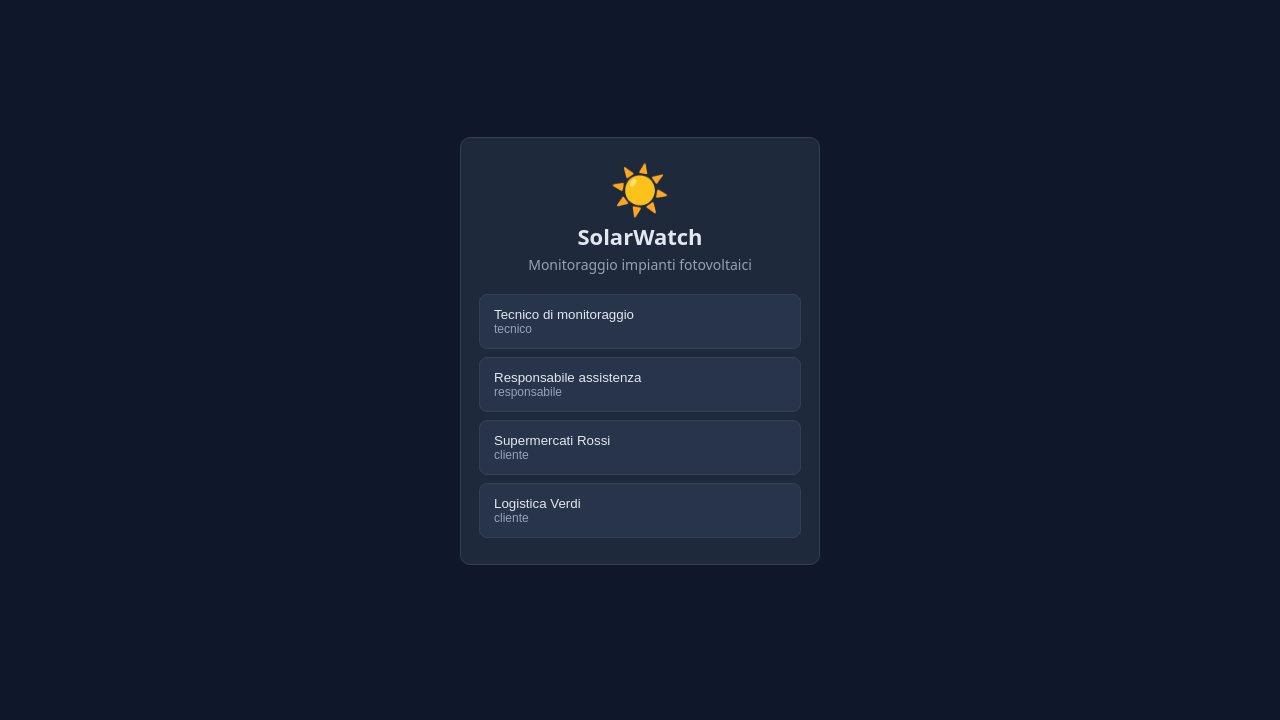
Test: SolarWatch - navigazione tecnico › apre lo storico e seleziona un impianto
Click the button with test id "login-tecnico".
click(564, 315)  # box [479,294,801,349]
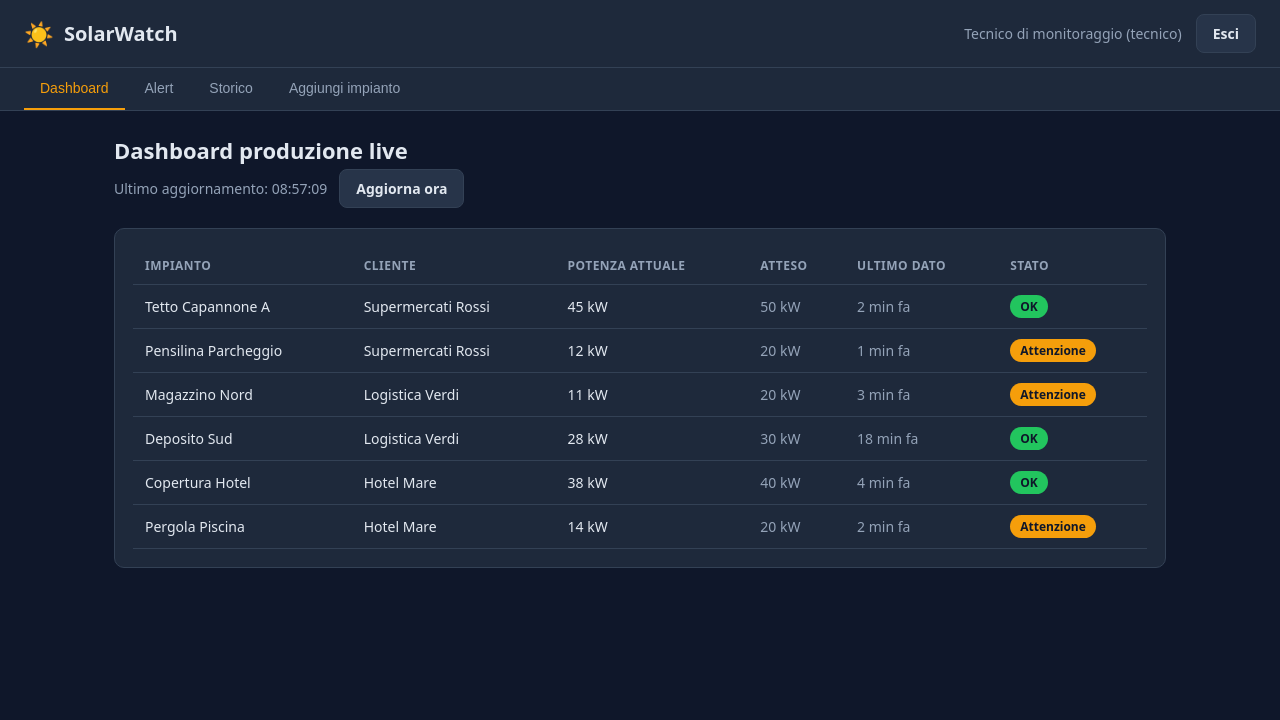
Click the button with test id "nav-storico".
click(231, 89)  # box [193,68,269,110]
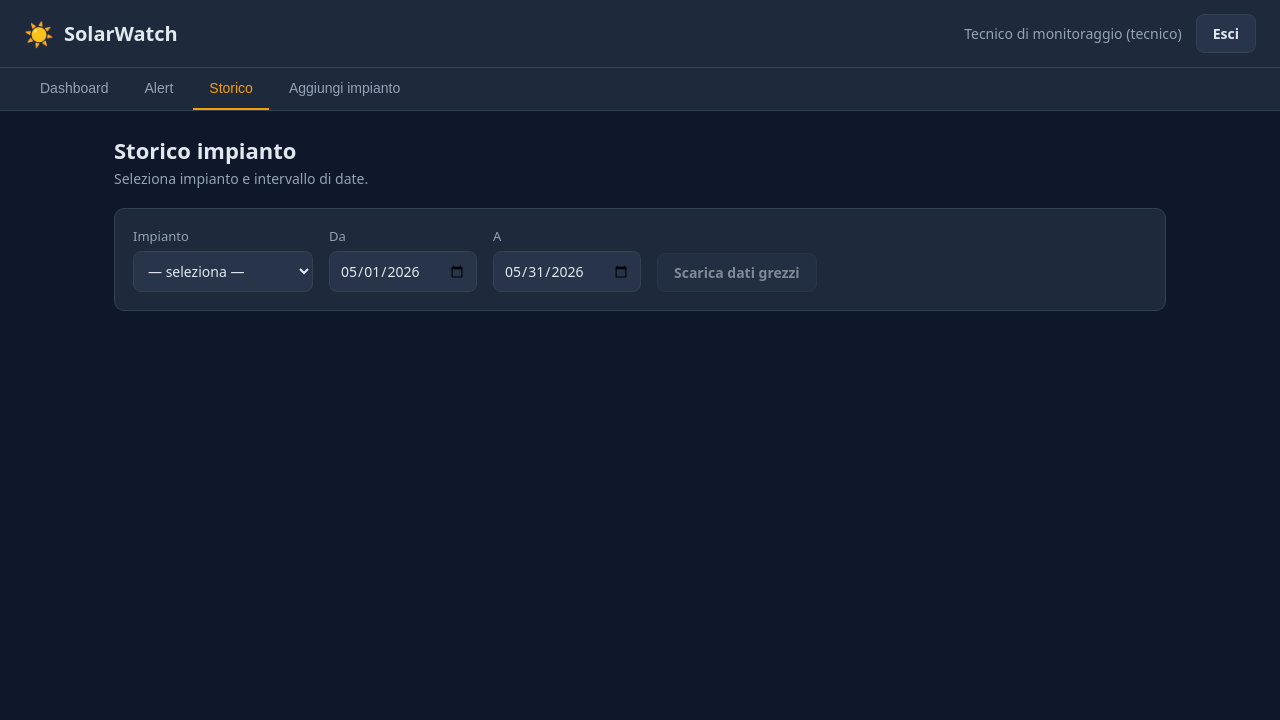
Select "Tetto Capannone A" in the dropdown with test id "storico-plant" at (223, 272), box [133,251,313,292]
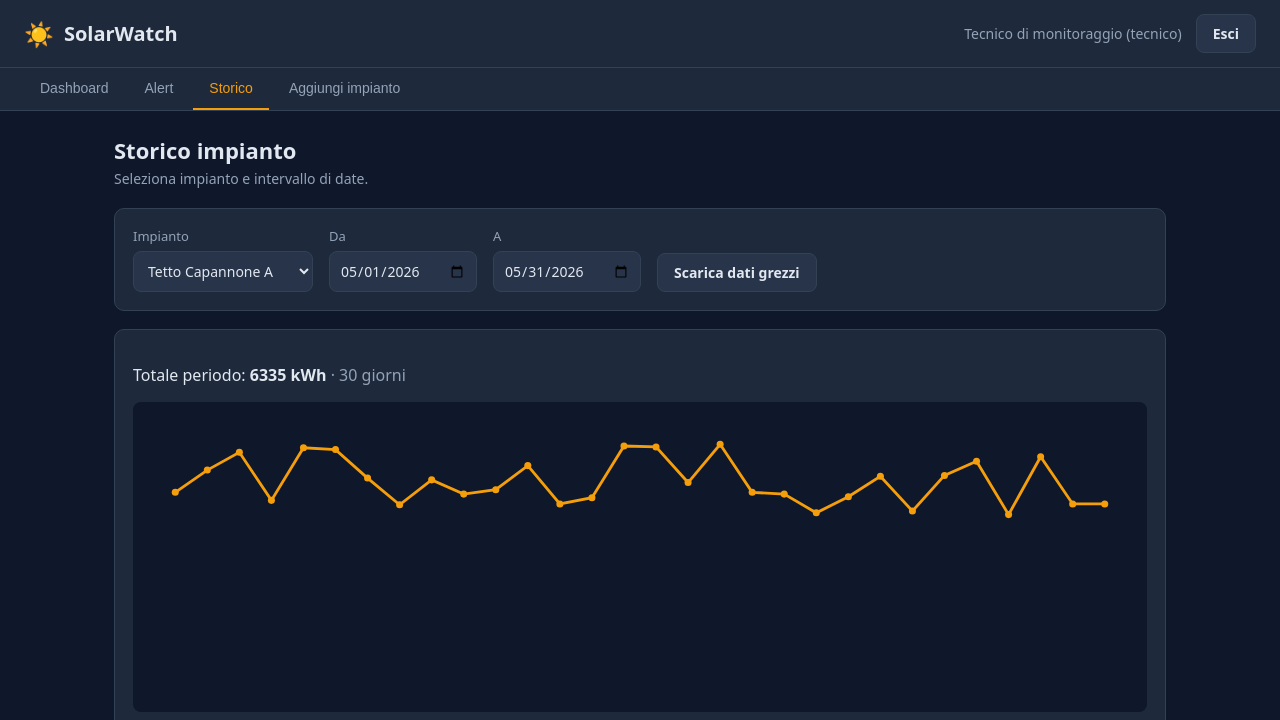
Now the element with test id "storico-result" is shown, box [114,329,1166,719]
